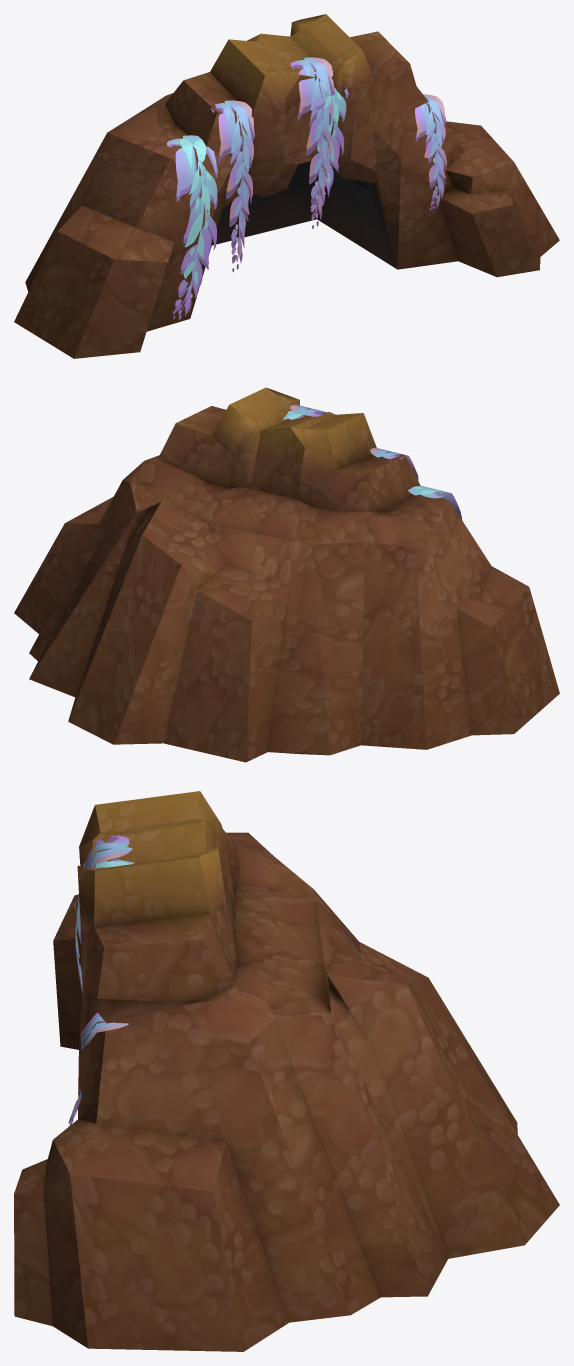
Rendered from Cave B.FBX.
3 views of the same model, one above another, from view 1: azimuth 30°, elevation 25°; view 2: azimuth 150°, elevation 25°; view 3: azimuth 270°, elevation 25° (orthographic). The views are drawn at different scales.
Visible parts, largest first — view 1: MultiMesher001, Plane004, Plane003, Plane001, Plane005, Plane002; view 2: MultiMesher001, Plane004; view 3: MultiMesher001, Plane001, Plane005.
Boxes of the visible parts, x1=… form: MultiMesher001: x1=14, y1=14, x2=559, y2=358; Plane004: x1=166, y1=135, x2=218, y2=319; Plane003: x1=210, y1=100, x2=255, y2=272; Plane001: x1=290, y1=57, x2=334, y2=228; Plane005: x1=415, y1=94, x2=446, y2=215; Plane002: x1=310, y1=67, x2=348, y2=212; MultiMesher001: x1=14, y1=387, x2=559, y2=762; Plane004: x1=408, y1=485, x2=461, y2=519; MultiMesher001: x1=14, y1=791, x2=559, y2=1351; Plane001: x1=82, y1=835, x2=132, y2=868; Plane005: x1=68, y1=1012, x2=129, y2=1126.
Size of the model in its own units: 45.9 by 21.63 by 30.24.
